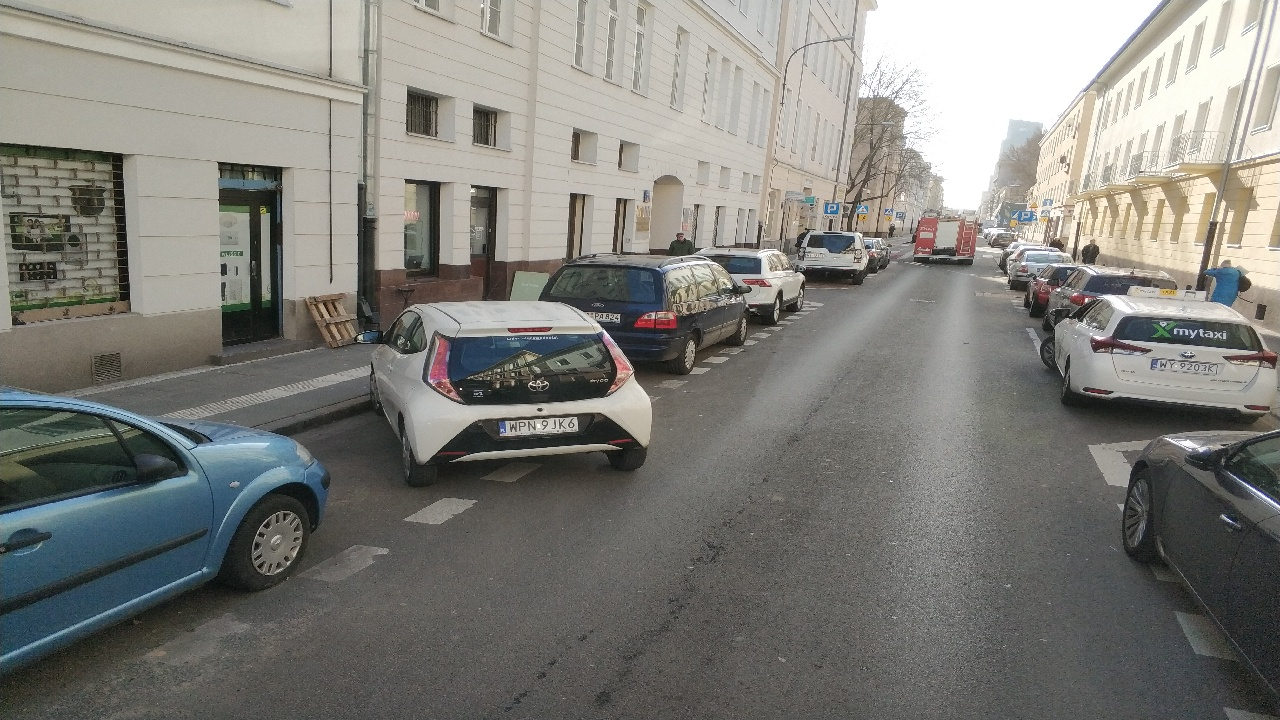D18: (823, 201, 841, 215), (1016, 210, 1035, 220)
